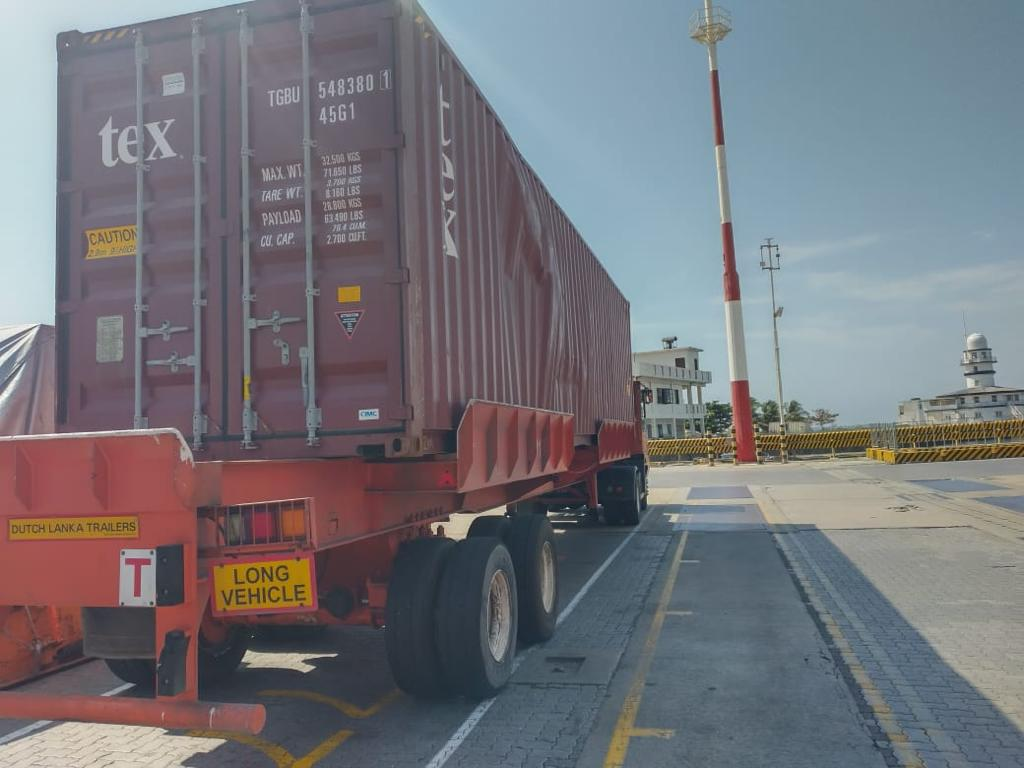bulged: (496, 161, 565, 350)
dented: (531, 368, 612, 399)
